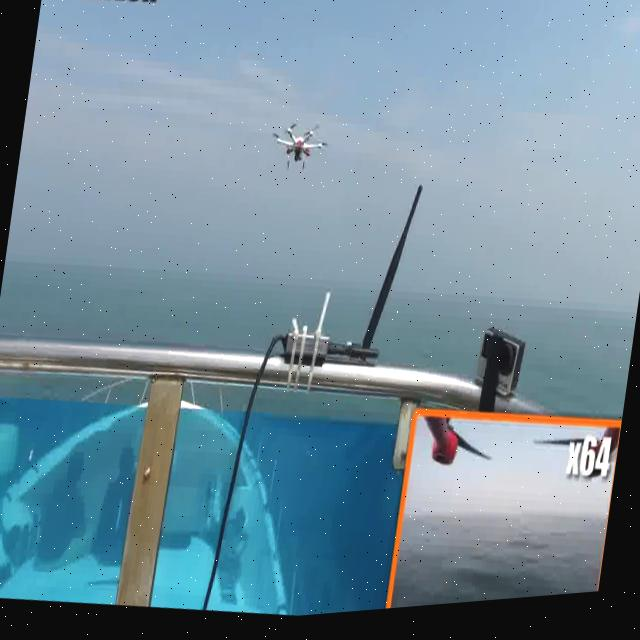drone: (262, 105, 332, 183)
